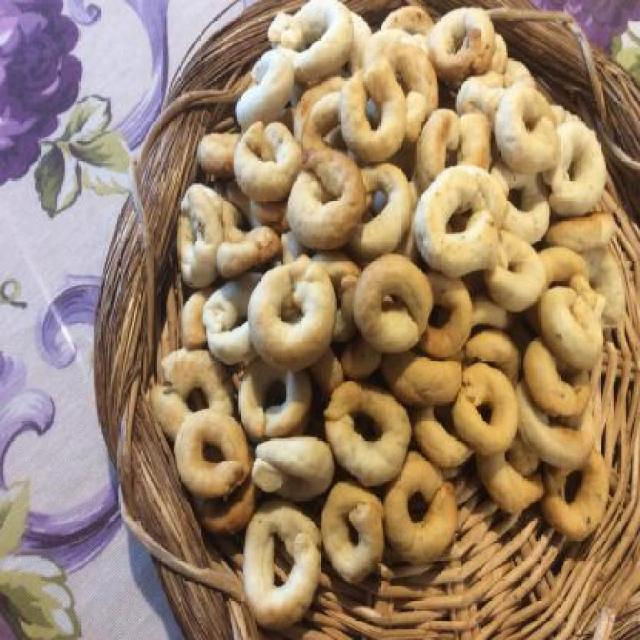Taralli: (151, 2, 631, 624)
